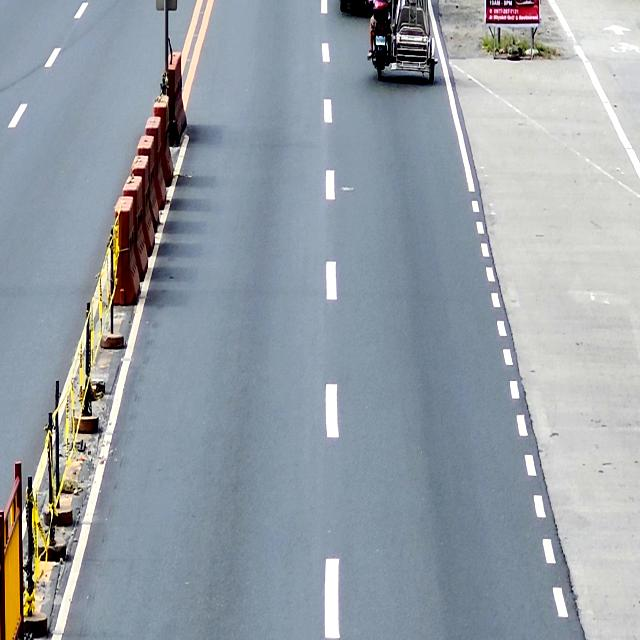License-Plate: (376, 34, 386, 46)
Tricycle: (366, 0, 437, 84)
